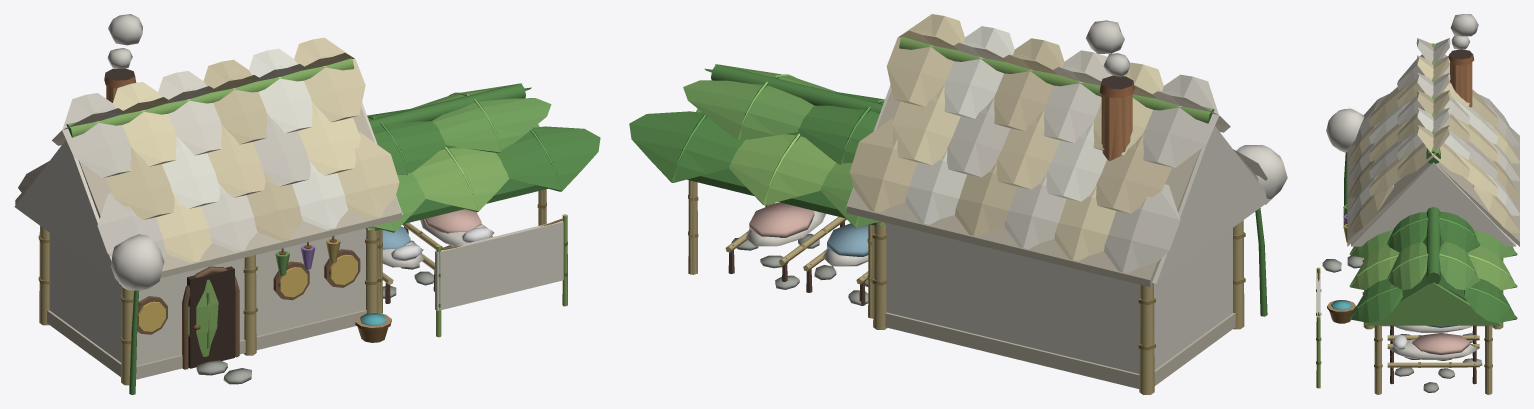
Rendered from healer.glb.
3 views of the same model, side by side, from view 1: azimuth 30°, elevation 25°; view 2: azimuth 150°, elevation 25°; view 3: azimuth 270°, elevation 25° (orthographic). The views are drawn at different scales.
Parts seen in each view (by area): view 1: body_nl, body, body__far, body_nh; view 2: body_nl, body, body__far, body_nh; view 3: body_nl, body__far, body, body_nh.
Boxes of the visible parts, x1,y1,x2,y2 form: body_nl: [15, 14, 600, 356]; body: [38, 68, 567, 394]; body__far: [14, 85, 563, 368]; body_nh: [206, 92, 563, 348]; body_nl: [629, 14, 1287, 286]; body: [688, 75, 1267, 394]; body__far: [690, 85, 1271, 318]; body_nh: [676, 74, 884, 186]; body_nl: [1326, 14, 1519, 323]; body__far: [1317, 62, 1516, 394]; body: [1316, 49, 1503, 394]; body_nh: [1317, 217, 1509, 315].
Bounding box in the file's own units: 5.02 × 2.93 × 2.22.
